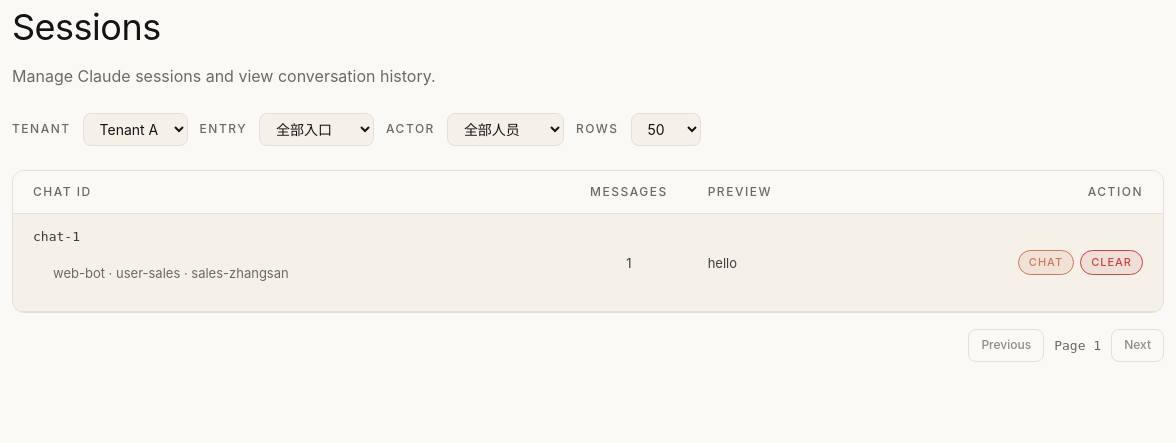
Test: Sessions page › expands a runtime session and loads messages by session id
The width and height of the screenshot is (1176, 443).
Click the text "chat-1" at coordinates (56, 237), box [33,229,80,244]
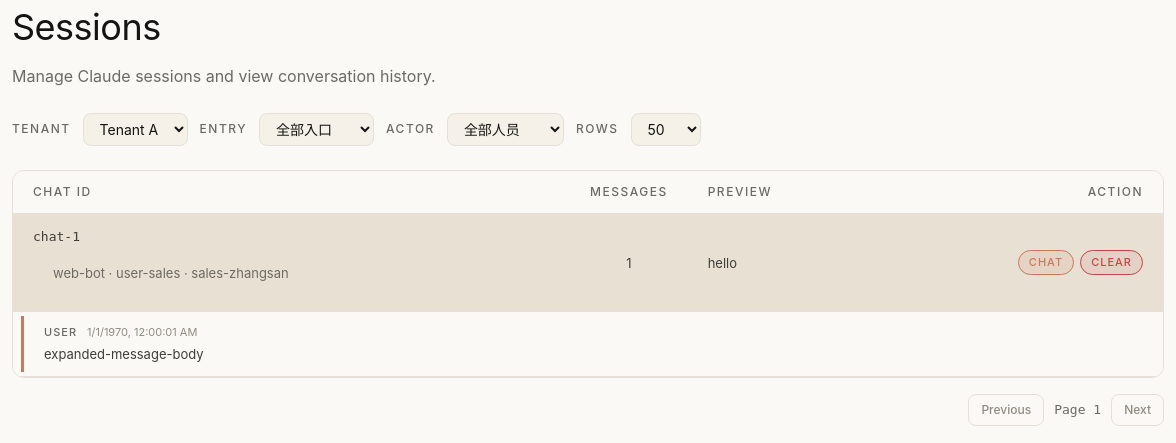
Expected: the text "expanded-message-body" is shown, [44,346,204,362]
